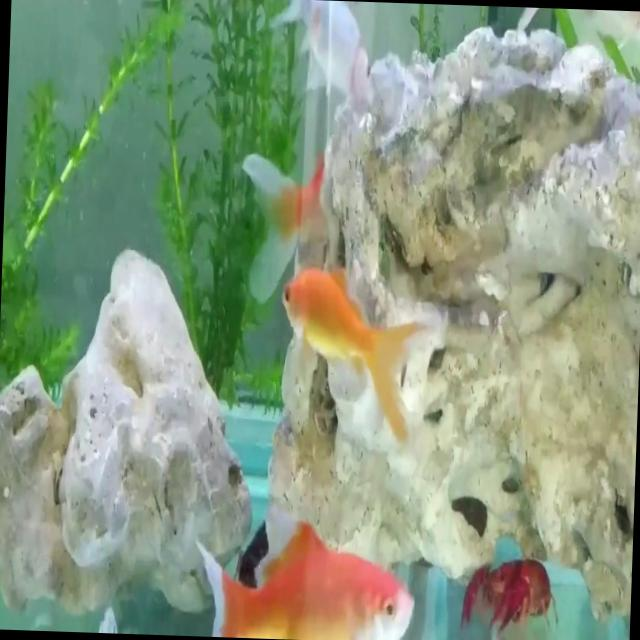GoldFish: (186, 501, 434, 640), (267, 260, 439, 450)
